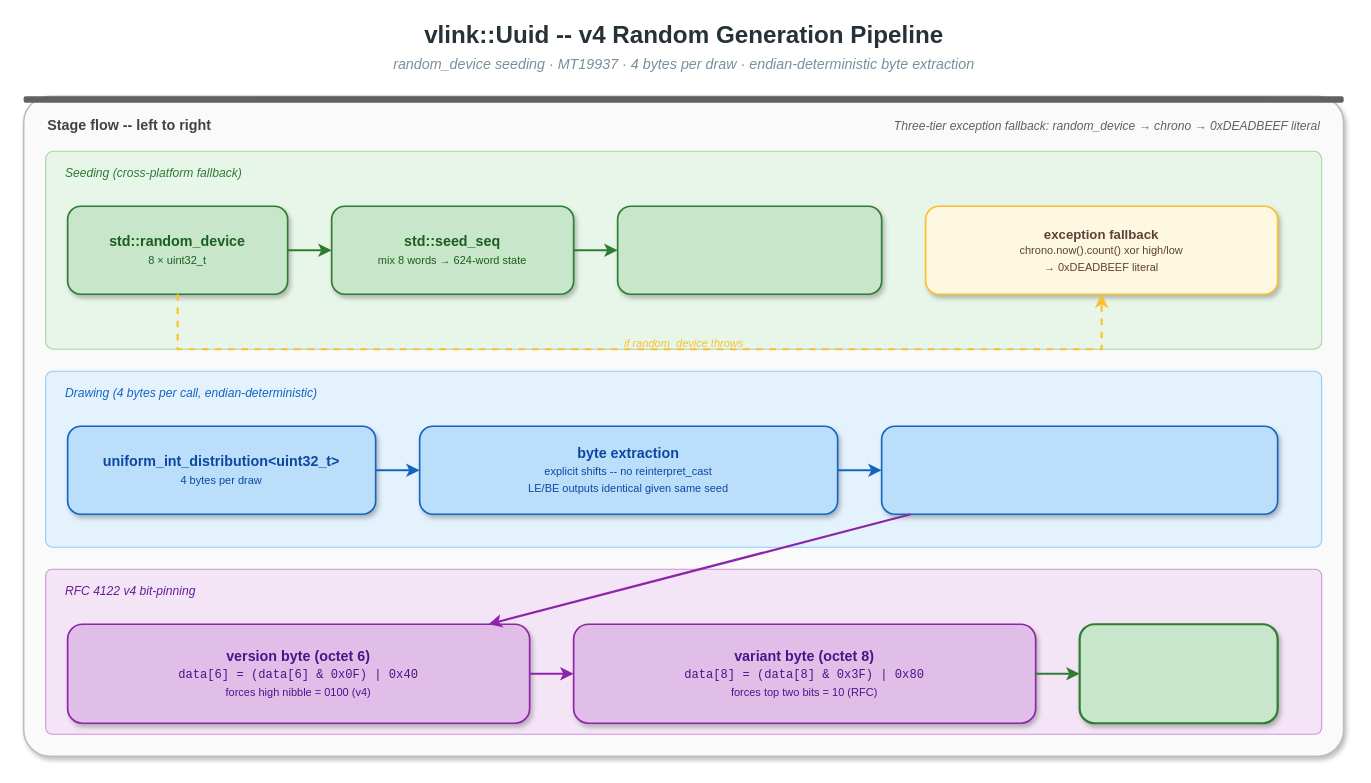
Some shapes in this 1371 by 783 pixel diagram are drawn without their labels. The centre of each missing label's shape, as x and y in pixels:
"buffer data[0..15] -- 128-bit payload" goes at [1080,471].
"std::mt19937 thread_local · lazy init · noexcept" goes at [750,251].
"Uuid variant() == kRfc version() == kRandomBased" goes at [1179,675].
